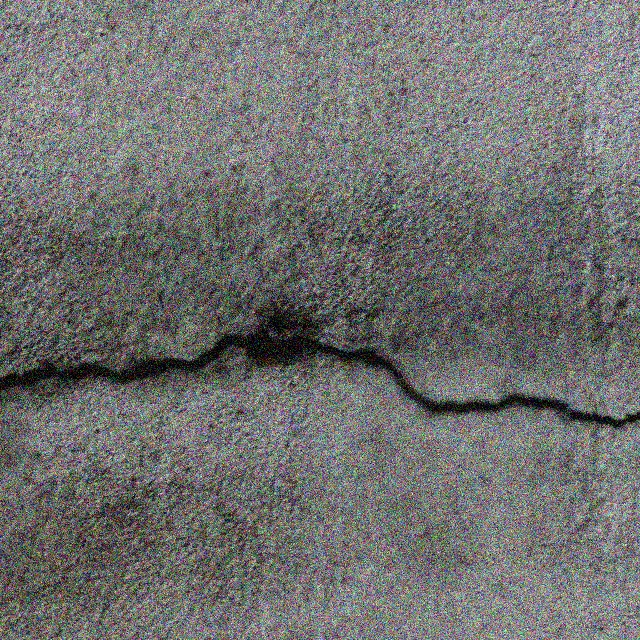SurfaceCrack: (1, 282, 640, 489)
